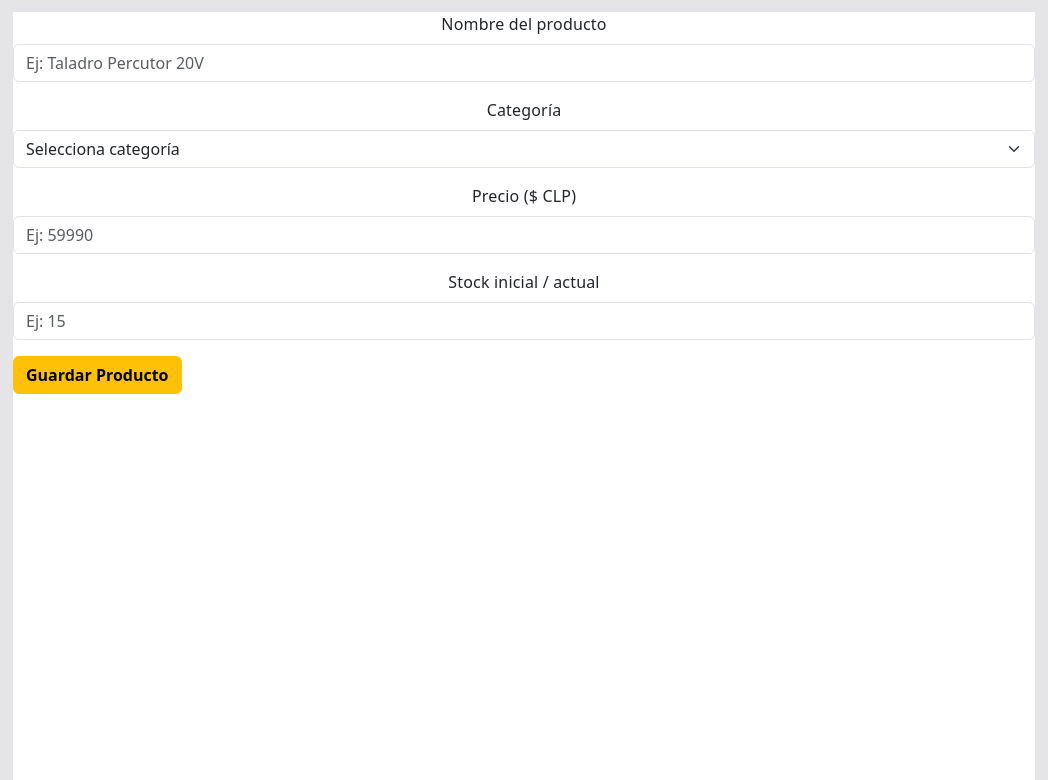
Formulario de productos › rechaza precios no positivos y stock negativo
This screenshot has width=1048, height=780.
Type "Martillo" into the field labelled "Nombre del producto" at x=524, y=63, box [13,44,1035,82]
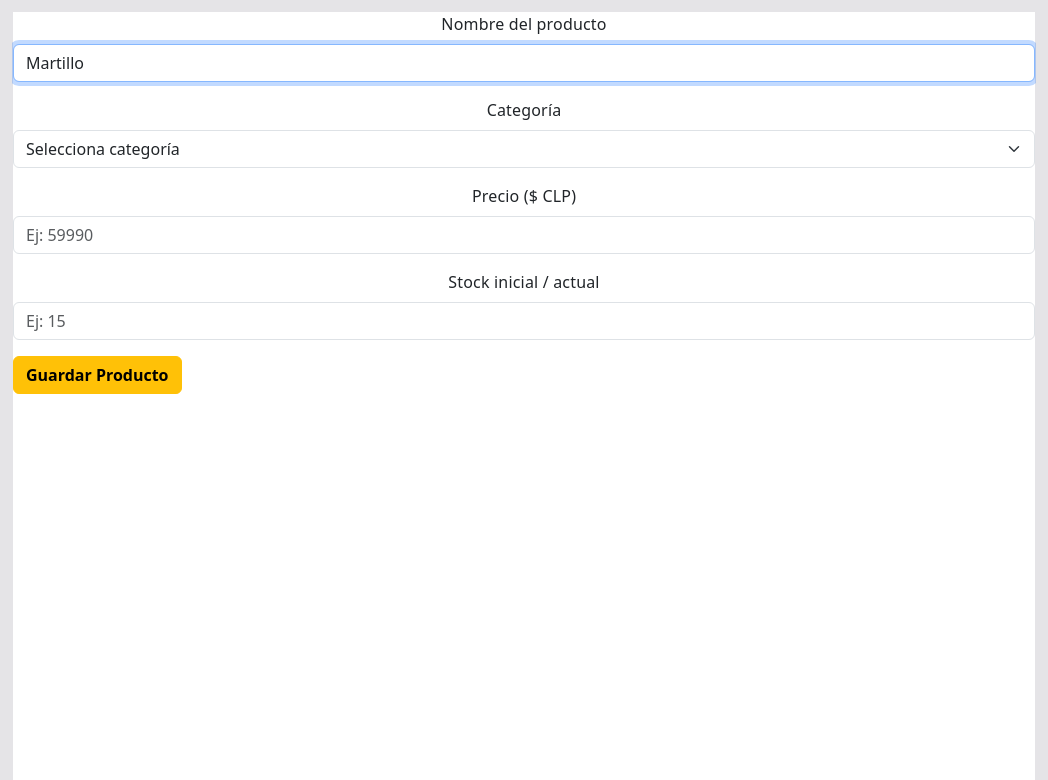
Select "Herramientas Manuales" in the dropdown labelled "Categoría" at x=524, y=149, box [13,130,1035,168]
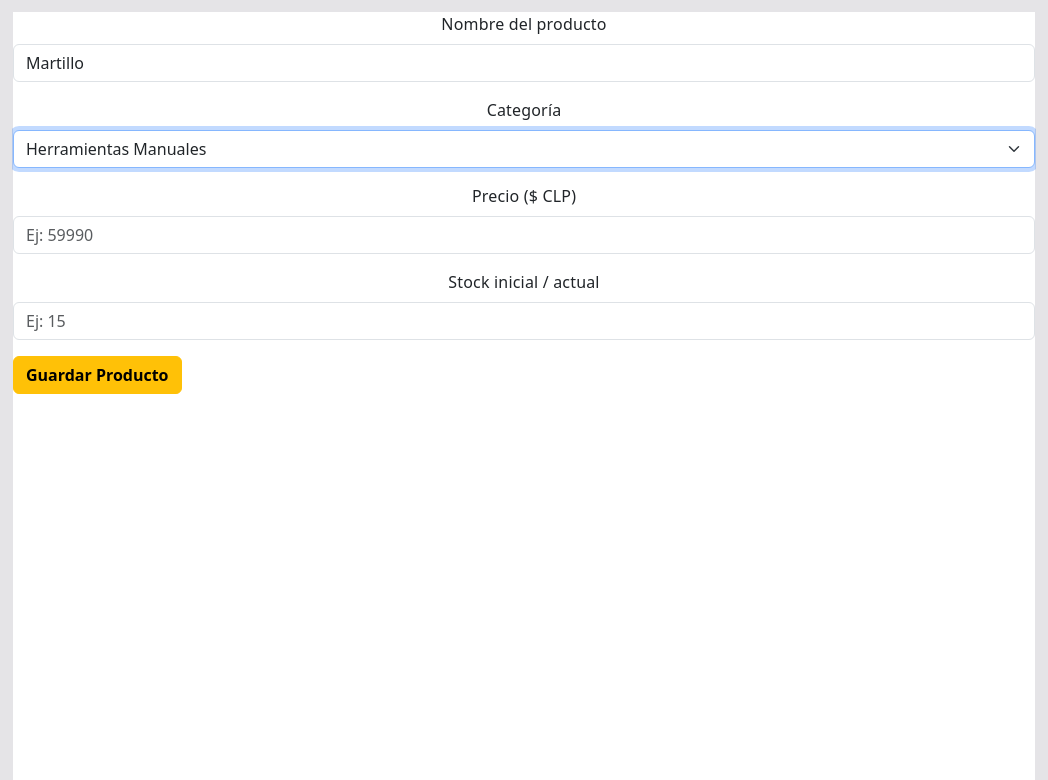
Type "0" into the number field labelled "Precio ($ CLP)" at x=524, y=235, box [13,216,1035,254]
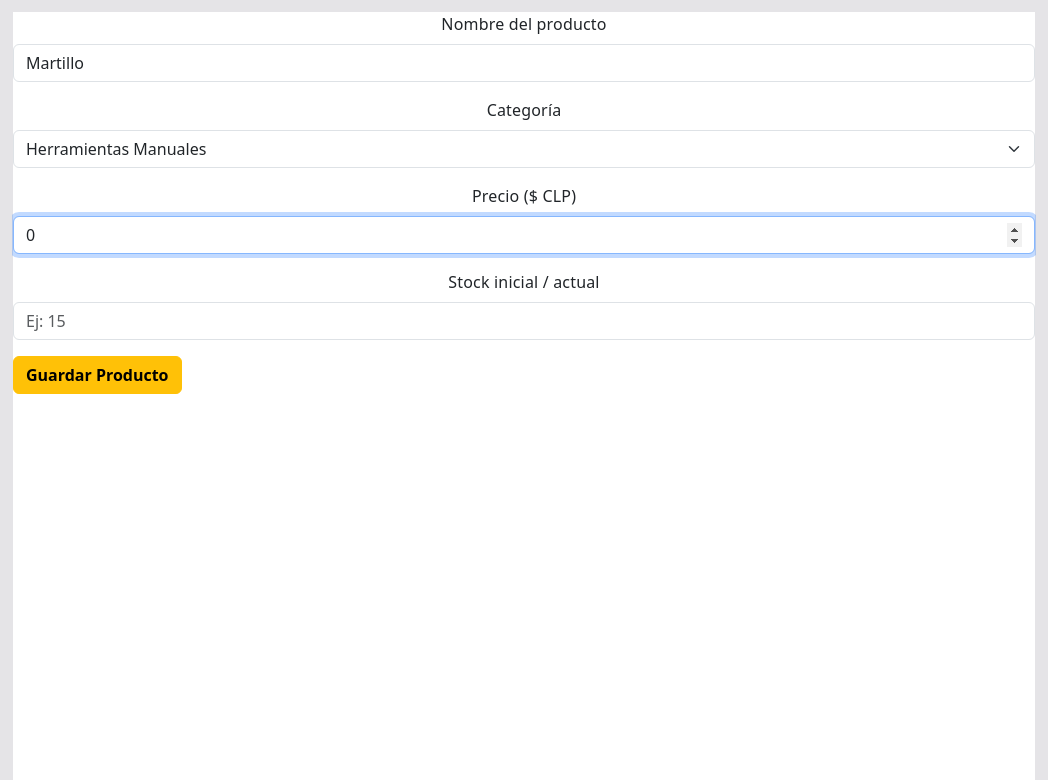
Type "-2" into the number field labelled "Stock inicial / actual" at x=524, y=321, box [13,302,1035,340]
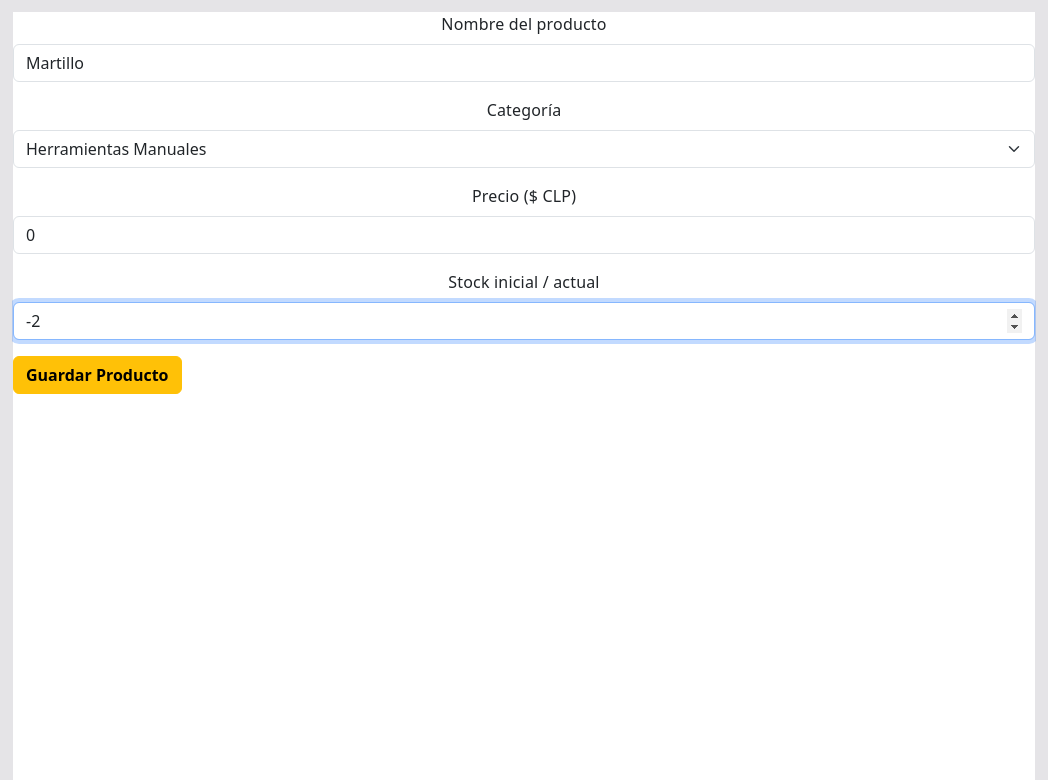
Click the button "Guardar Producto" at x=97, y=375, box [13,356,182,394]
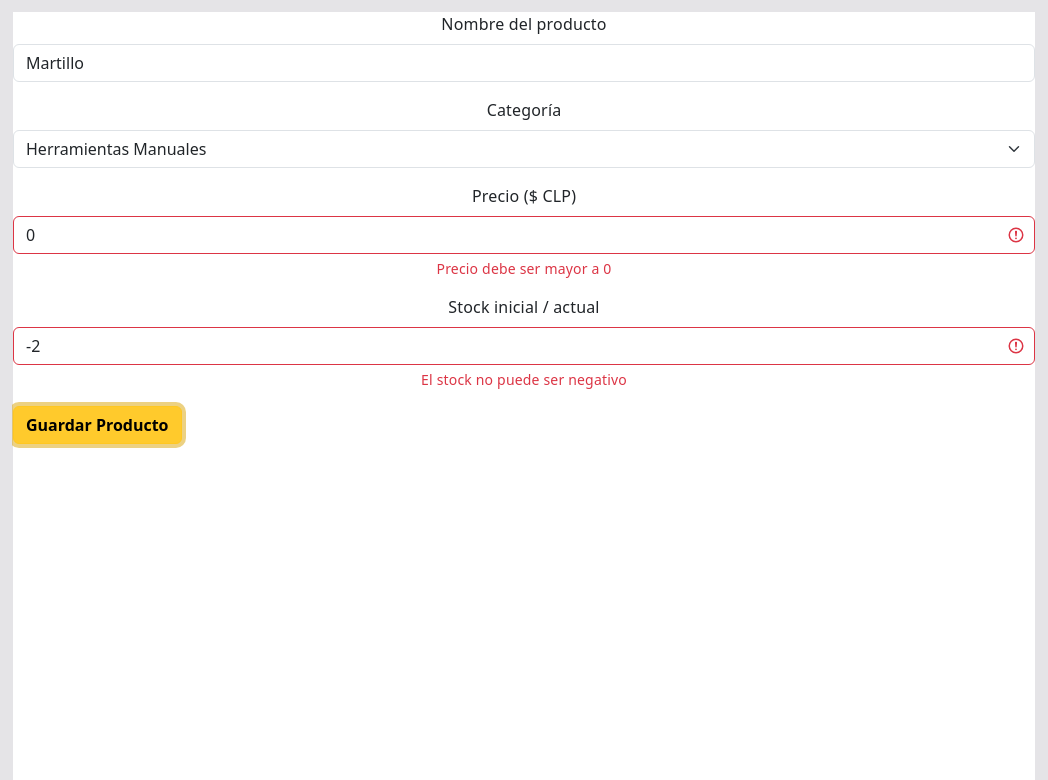
expect the text "Precio debe ser mayor a 0" is shown: met, box [436,259,612,278]
expect the text "El stock no puede ser negativo" is shown: met, box [421,370,627,389]
